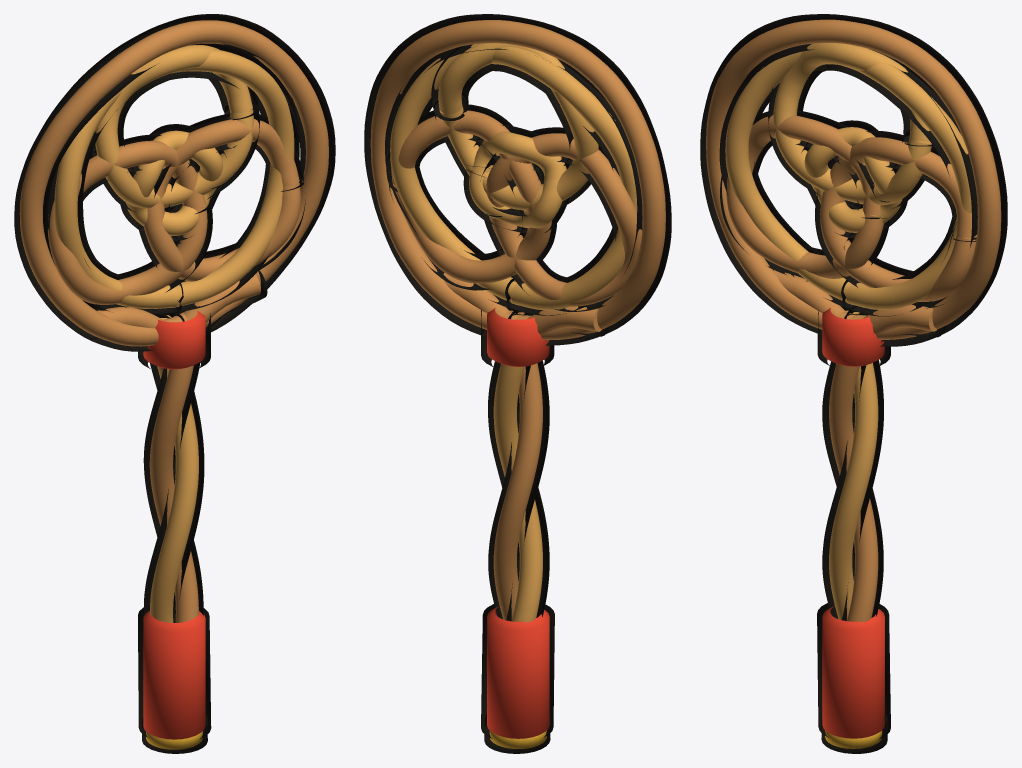
Rendered from carpetbeater.glb.
3 renders of one model, left to right at view 1: azimuth 30°, elevation 25°; view 2: azimuth 150°, elevation 25°; view 3: azimuth 330°, elevation 25°, orthographic.
Parts seen in each view (by area): view 1: CarpetBeater, CarpetBeater_outline; view 2: CarpetBeater, CarpetBeater_outline; view 3: CarpetBeater, CarpetBeater_outline.
Boxes of the visible parts, x1,y1,x2,y2 form: CarpetBeater: (19, 20, 328, 749); CarpetBeater_outline: (14, 14, 335, 753); CarpetBeater: (370, 20, 665, 748); CarpetBeater_outline: (364, 14, 671, 753); CarpetBeater: (706, 19, 1001, 748); CarpetBeater_outline: (700, 14, 1007, 753).
Size of the model in its own units: 1.38 by 3.09 by 0.281.
